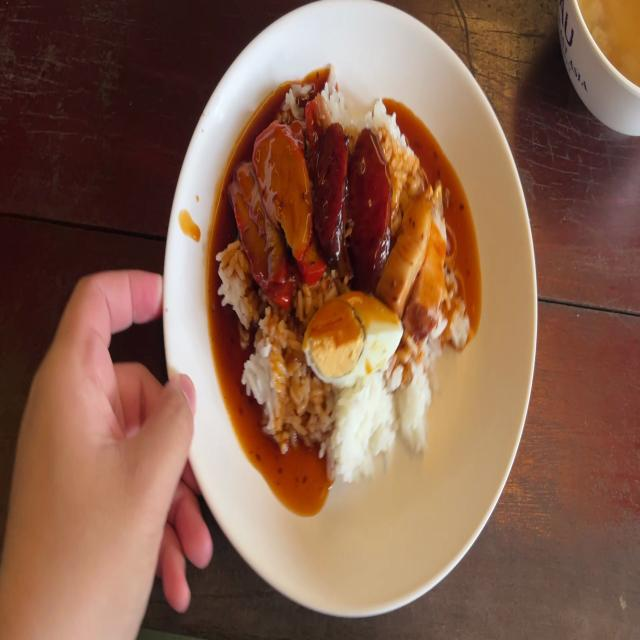red_pork_and_crispy_pork: (306, 286, 402, 383)
stir_fried_basil: (317, 132, 387, 270), (352, 126, 395, 285), (311, 120, 350, 239)
